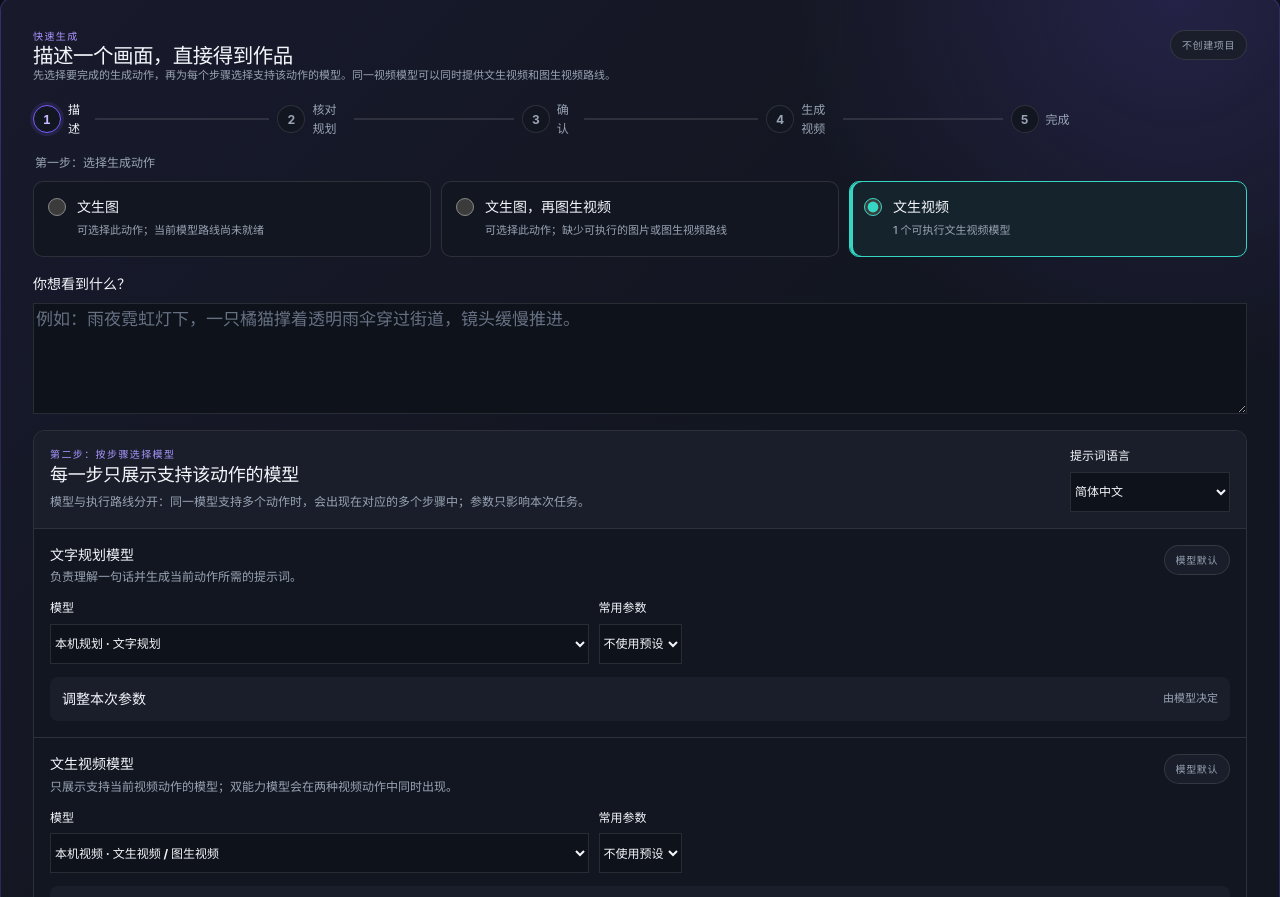
it: QuickGenerationWorkbench › invalidates a V2 candidate plan when the requested candidate count changes
This screenshot has width=1280, height=897.
Click the radio button labelled "文生图，再图生视频 可选择此动作；缺少可执行的图片或图生视频路线": (465, 207) [456, 198, 474, 216]
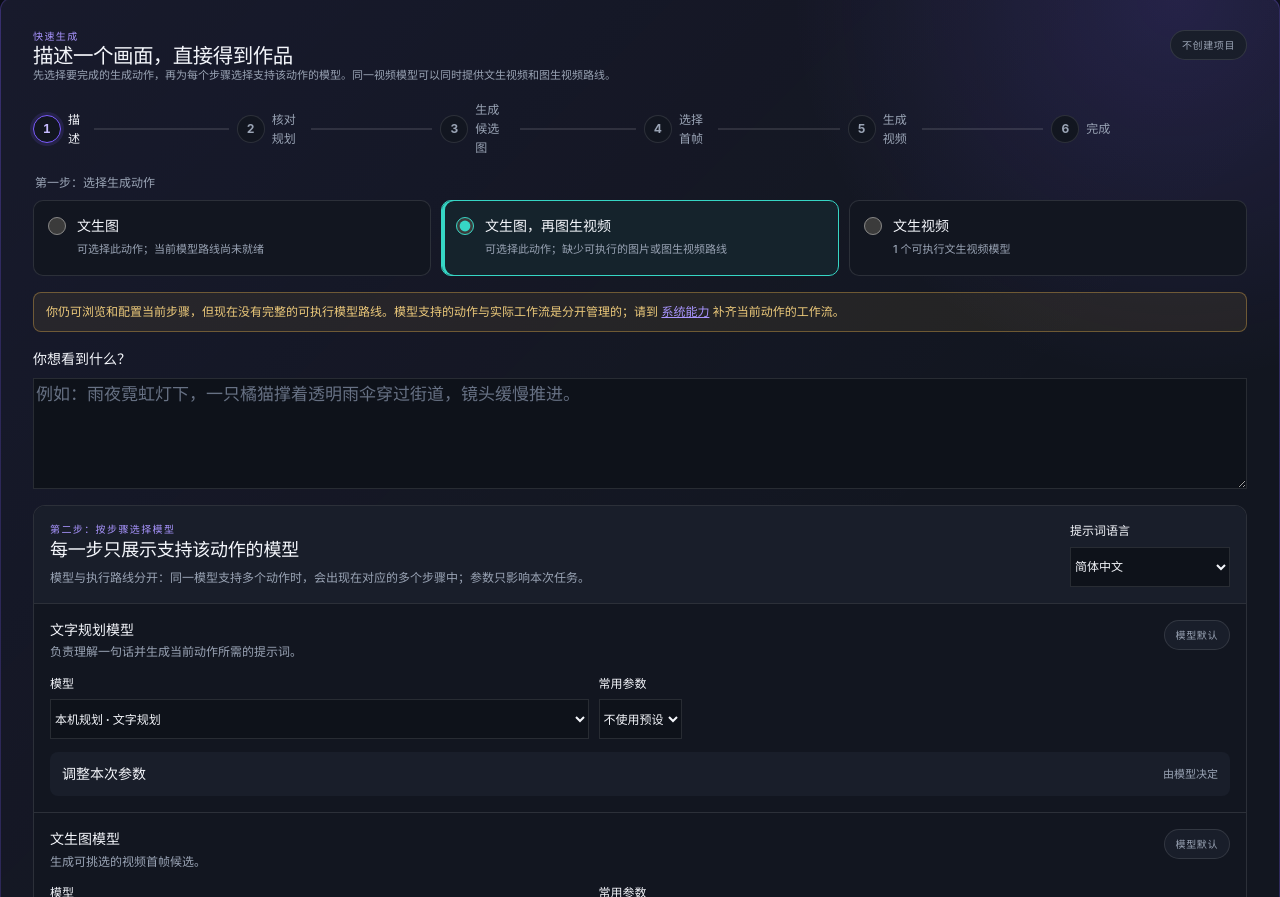
In the text box labelled "你想看到什么？": (640, 434) [33, 378, 1247, 489], type "雨夜的橘猫"
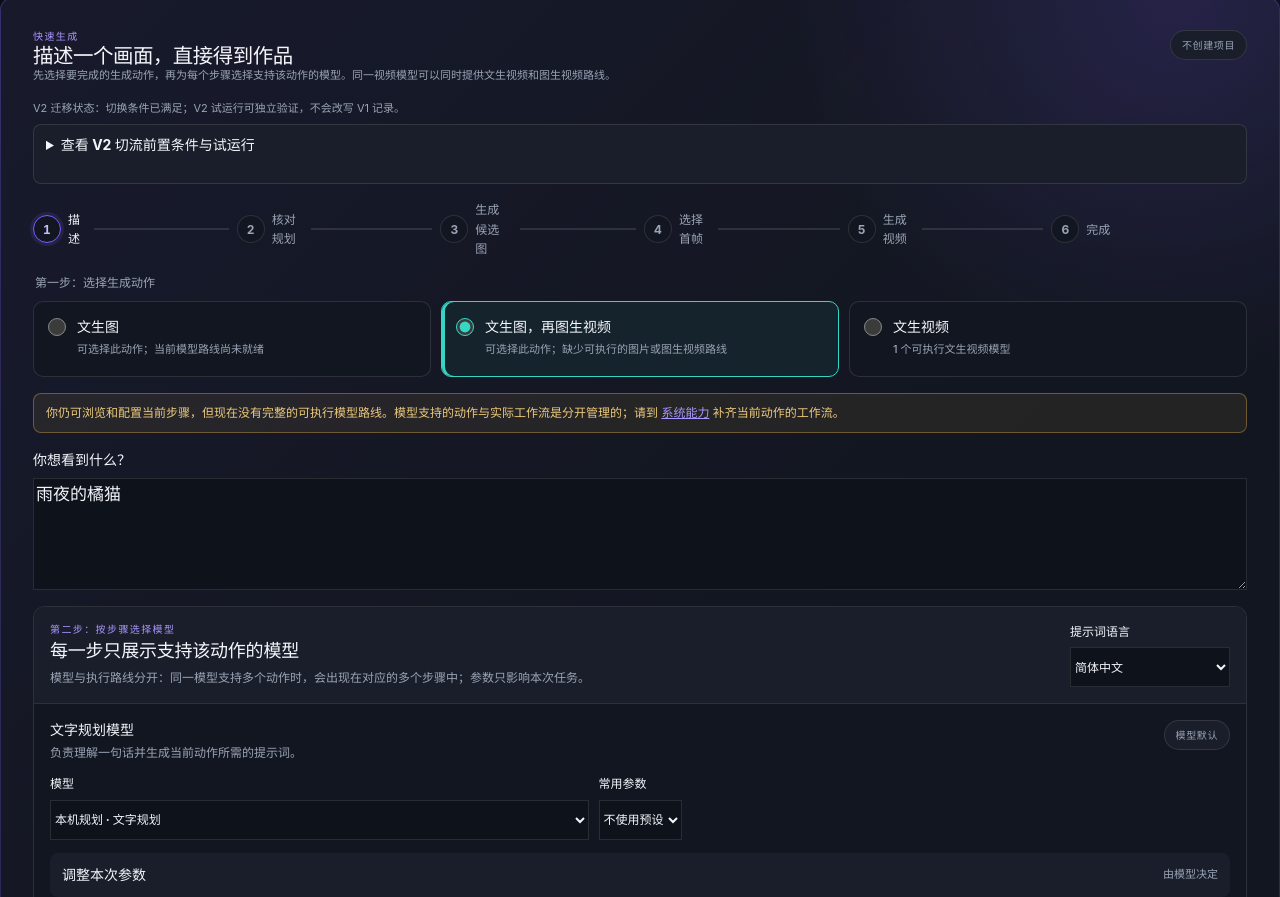
Click the heading "查看 V2 切流前置条件与试运行": (158, 145) [61, 136, 255, 154]
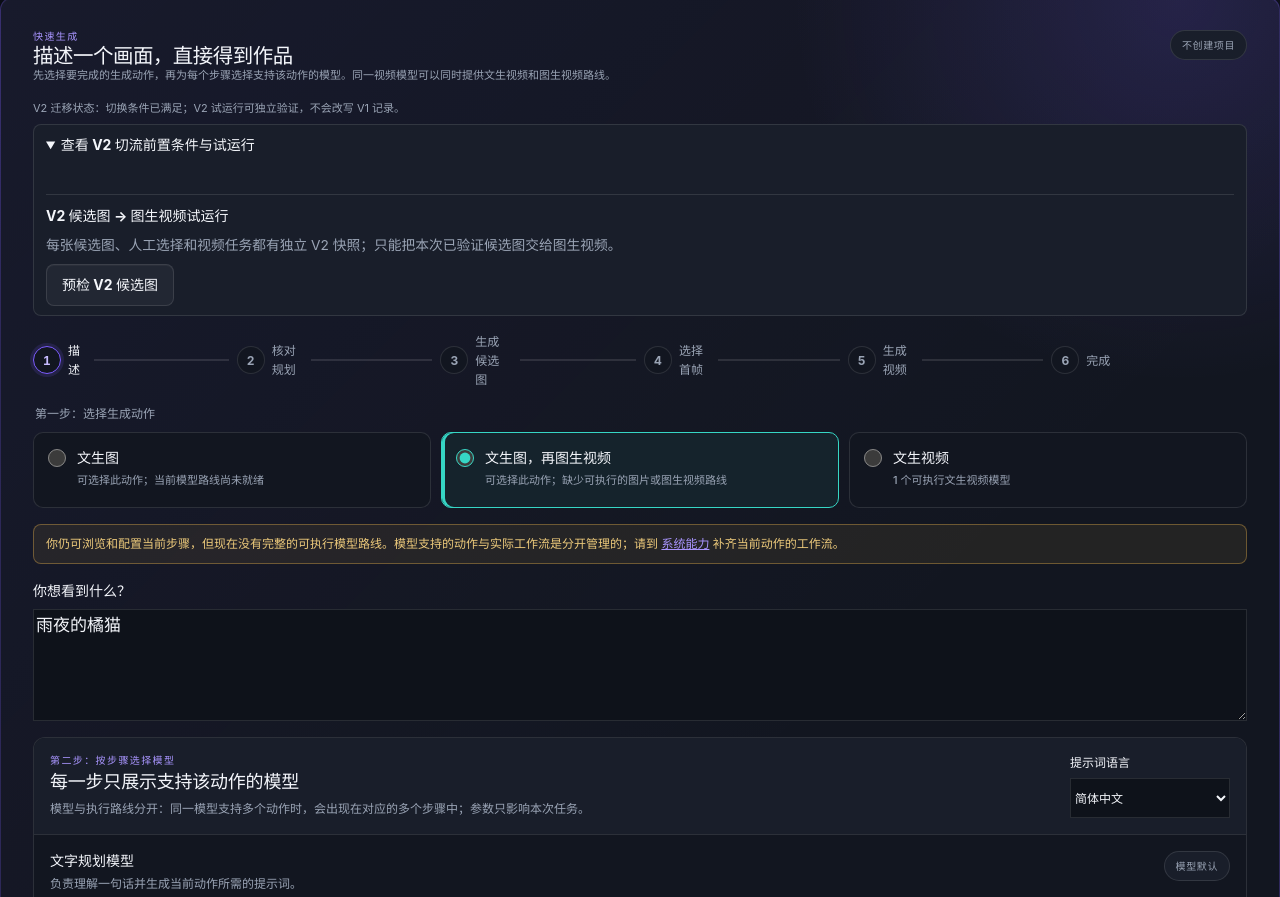
Click the button "预检 V2 候选图": (110, 285) [46, 264, 174, 306]
(page scrolled)
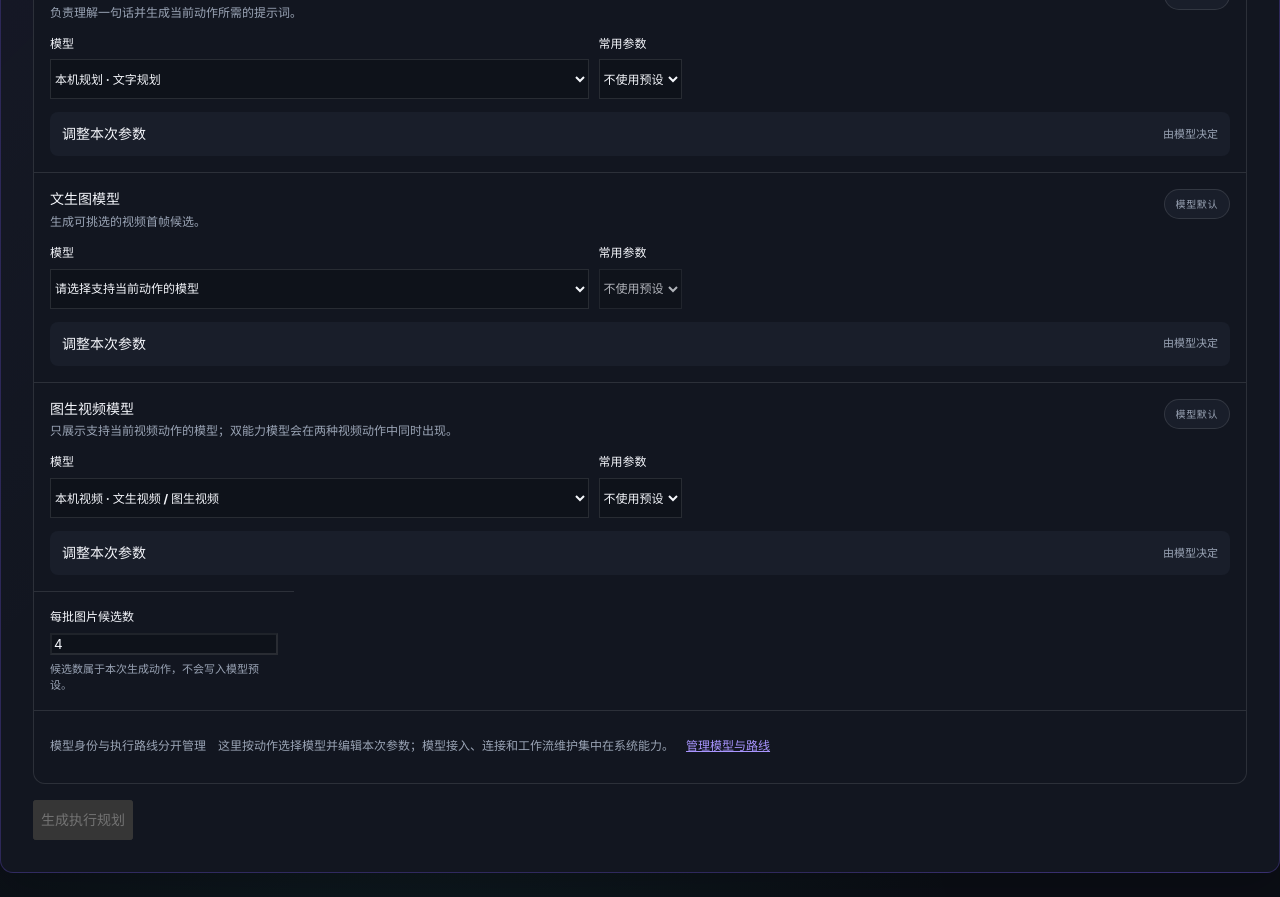
Replace the text in the number field labelled "每批图片候选数" with "6": (164, 644) [50, 633, 278, 655]
(page scrolled)
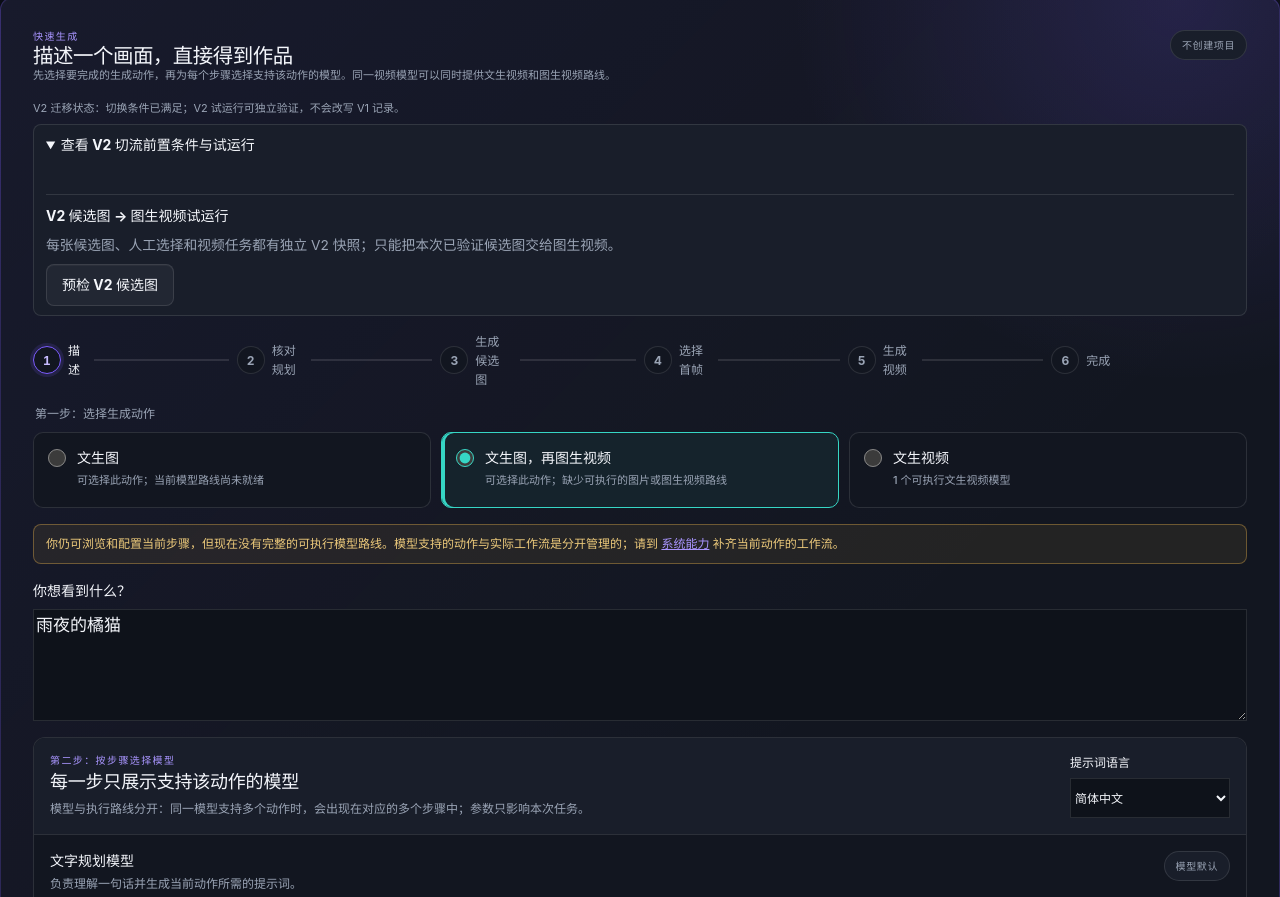
Result: the button "预检 V2 候选图" is shown at [46, 264, 174, 306]
